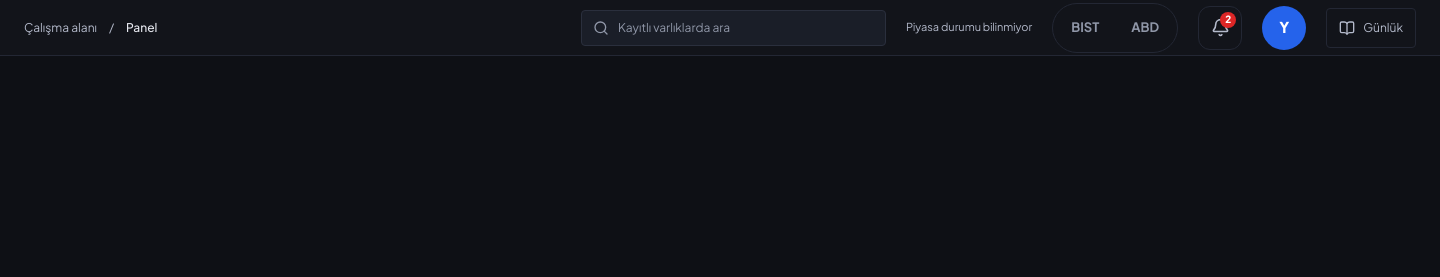
Test case: notification bell and profile chip › shows the unread count from the notifications endpoint and marks all read
Expected: the text with test id "unread-badge" reads "2", [1225,13,1231,25]
Click the button named "Bildirimler, 2 okunmamış".
click(1220, 28)  # box [1198,6,1242,50]
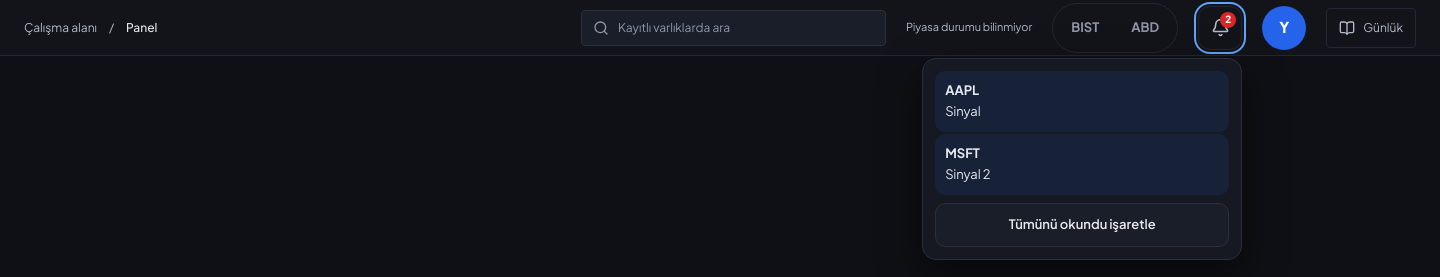
Click the button "Tümünü okundu işaretle".
click(1082, 224)  # box [935,202,1229,246]
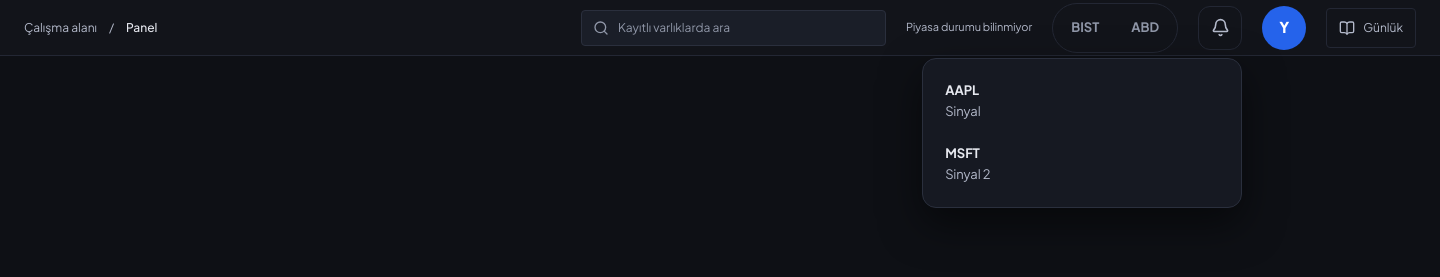
Now the text with test id "unread-badge" is gone
